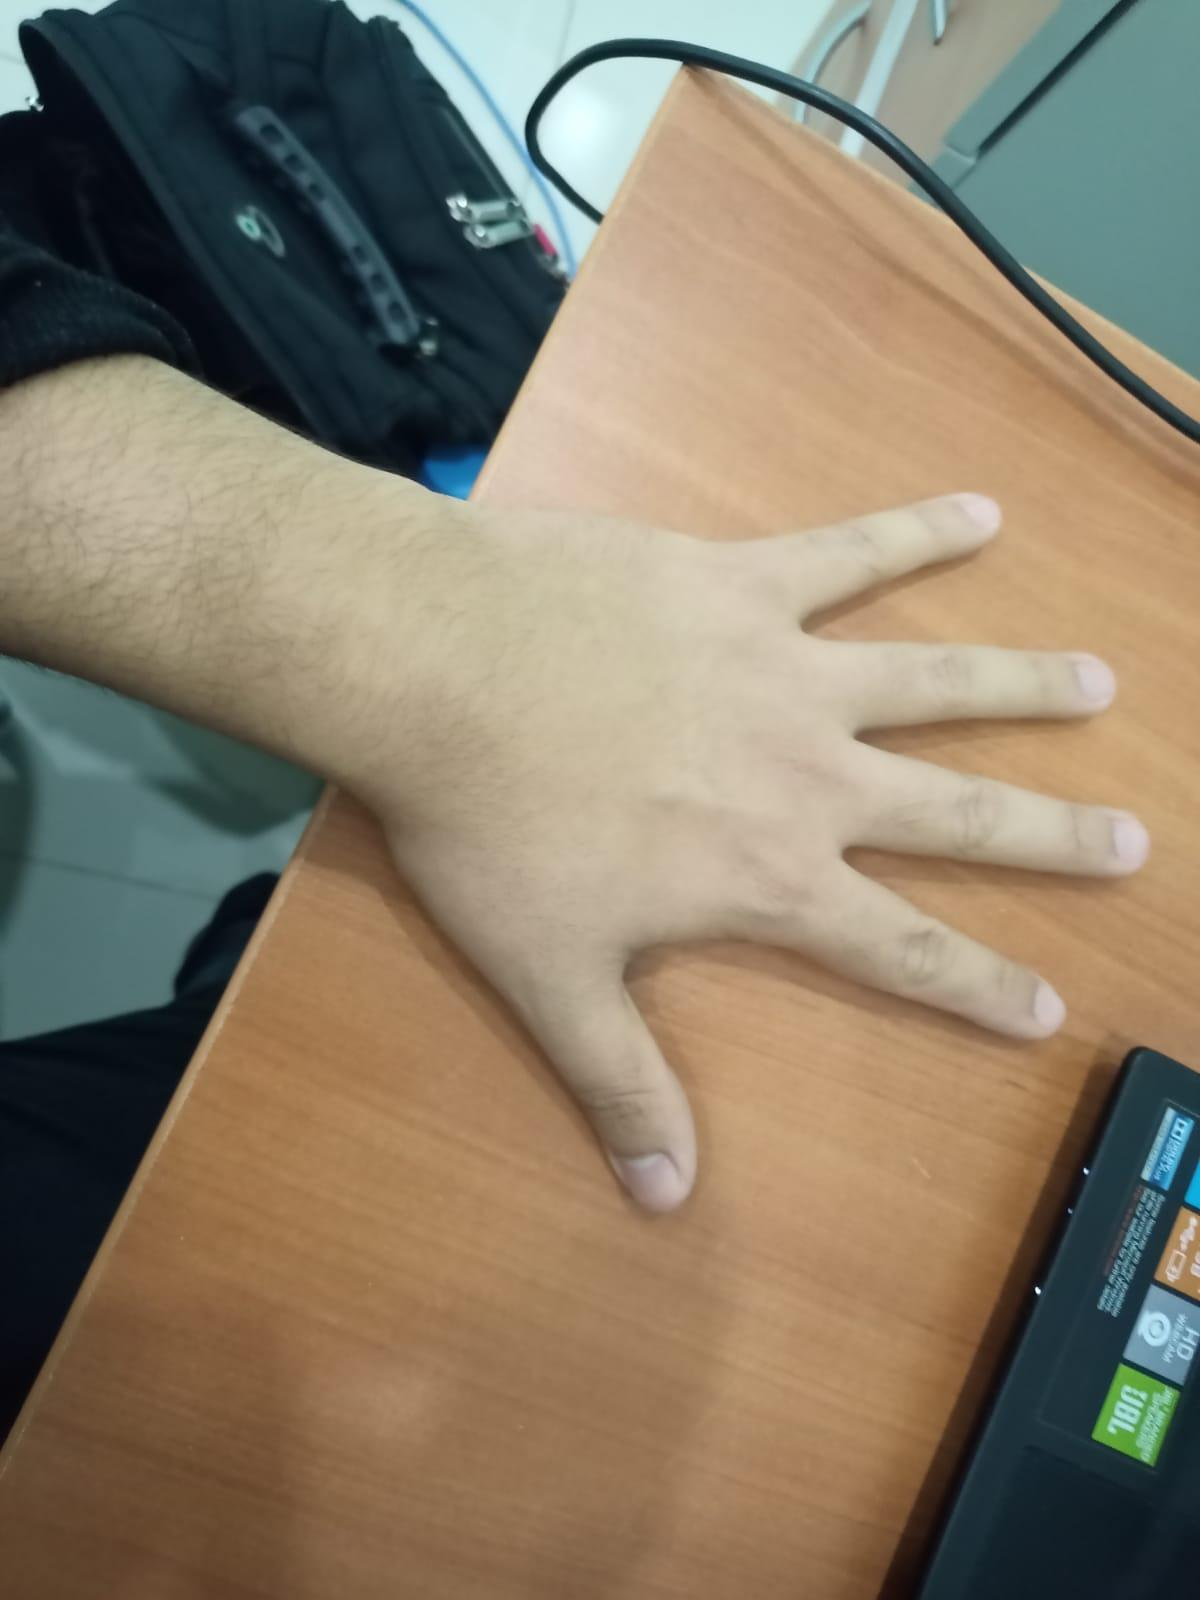Paper: (324, 392, 1162, 1230)
